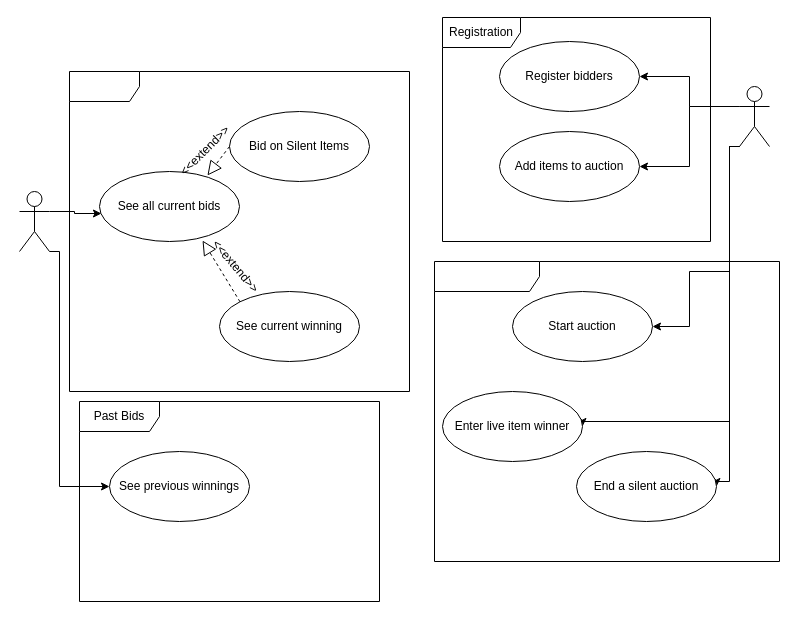
Image size: 797x619. Some labels were removed from this diagram. Each missing label, with the box of its shape:
Active Bids: (68, 70, 410, 392)
Admin: (738, 86, 770, 146)
Bidder: (18, 190, 50, 252)
Manage Auctions: (434, 260, 780, 562)
